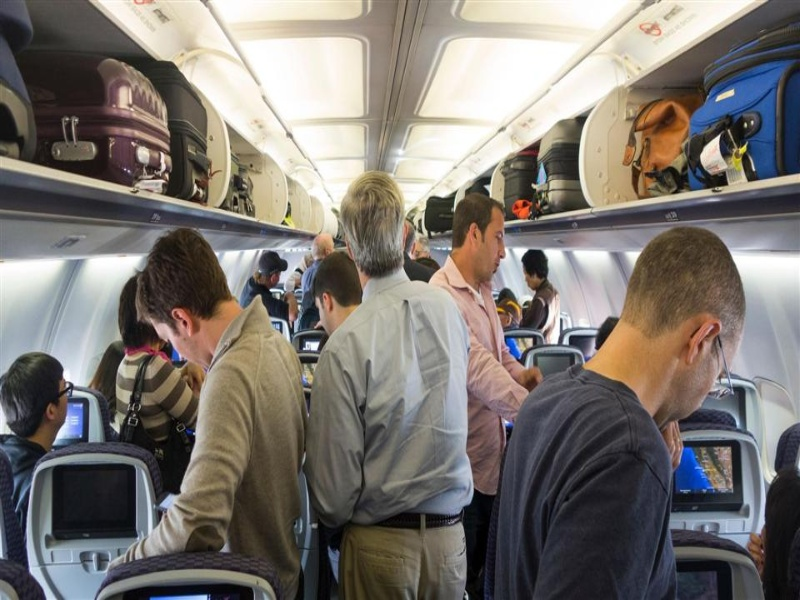open_bin: (2, 3, 215, 204), (595, 1, 795, 214), (502, 98, 610, 228), (200, 91, 286, 233), (455, 162, 502, 233), (269, 158, 308, 237), (424, 194, 457, 236), (303, 193, 323, 235)
